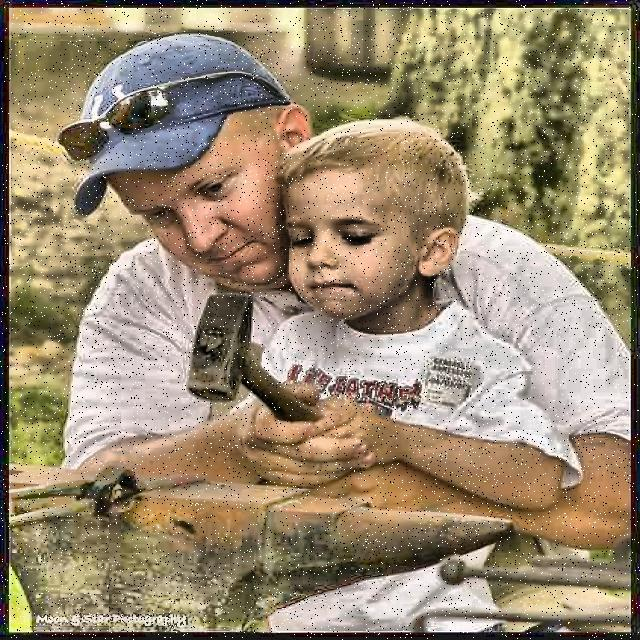hammer: (188, 291, 356, 457)
